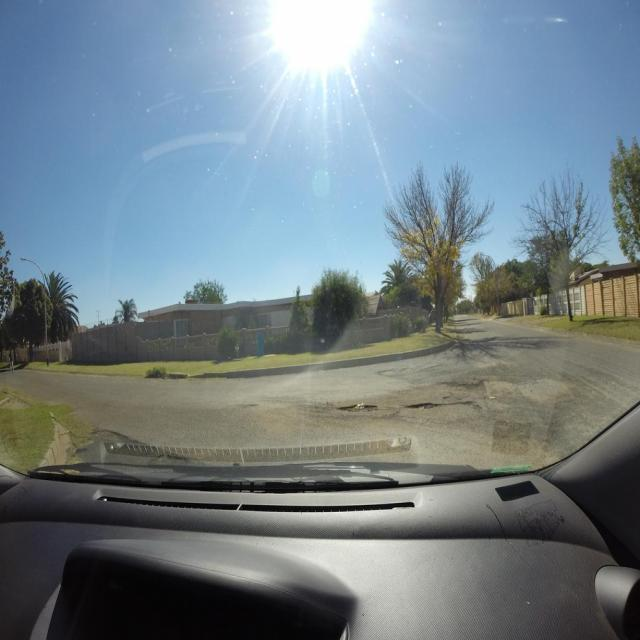Pothole: (336, 403, 379, 412), (440, 401, 474, 408), (408, 402, 440, 409), (243, 402, 259, 408)
